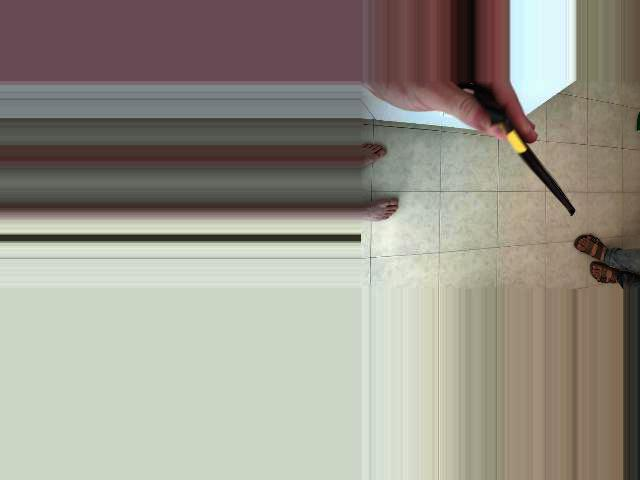chocolate: (432, 136, 569, 262)
